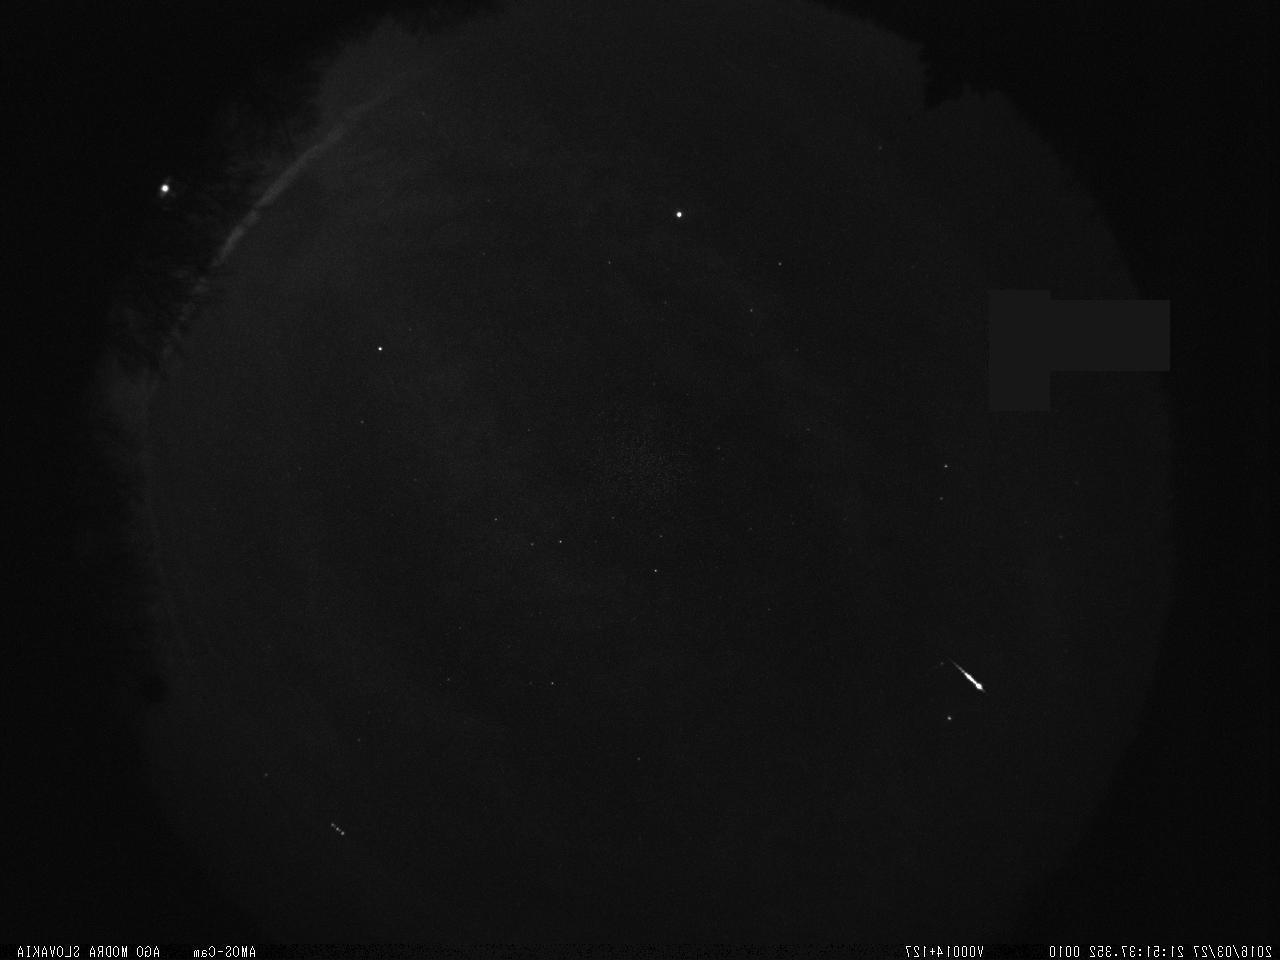meteor: (942, 654, 997, 699)
